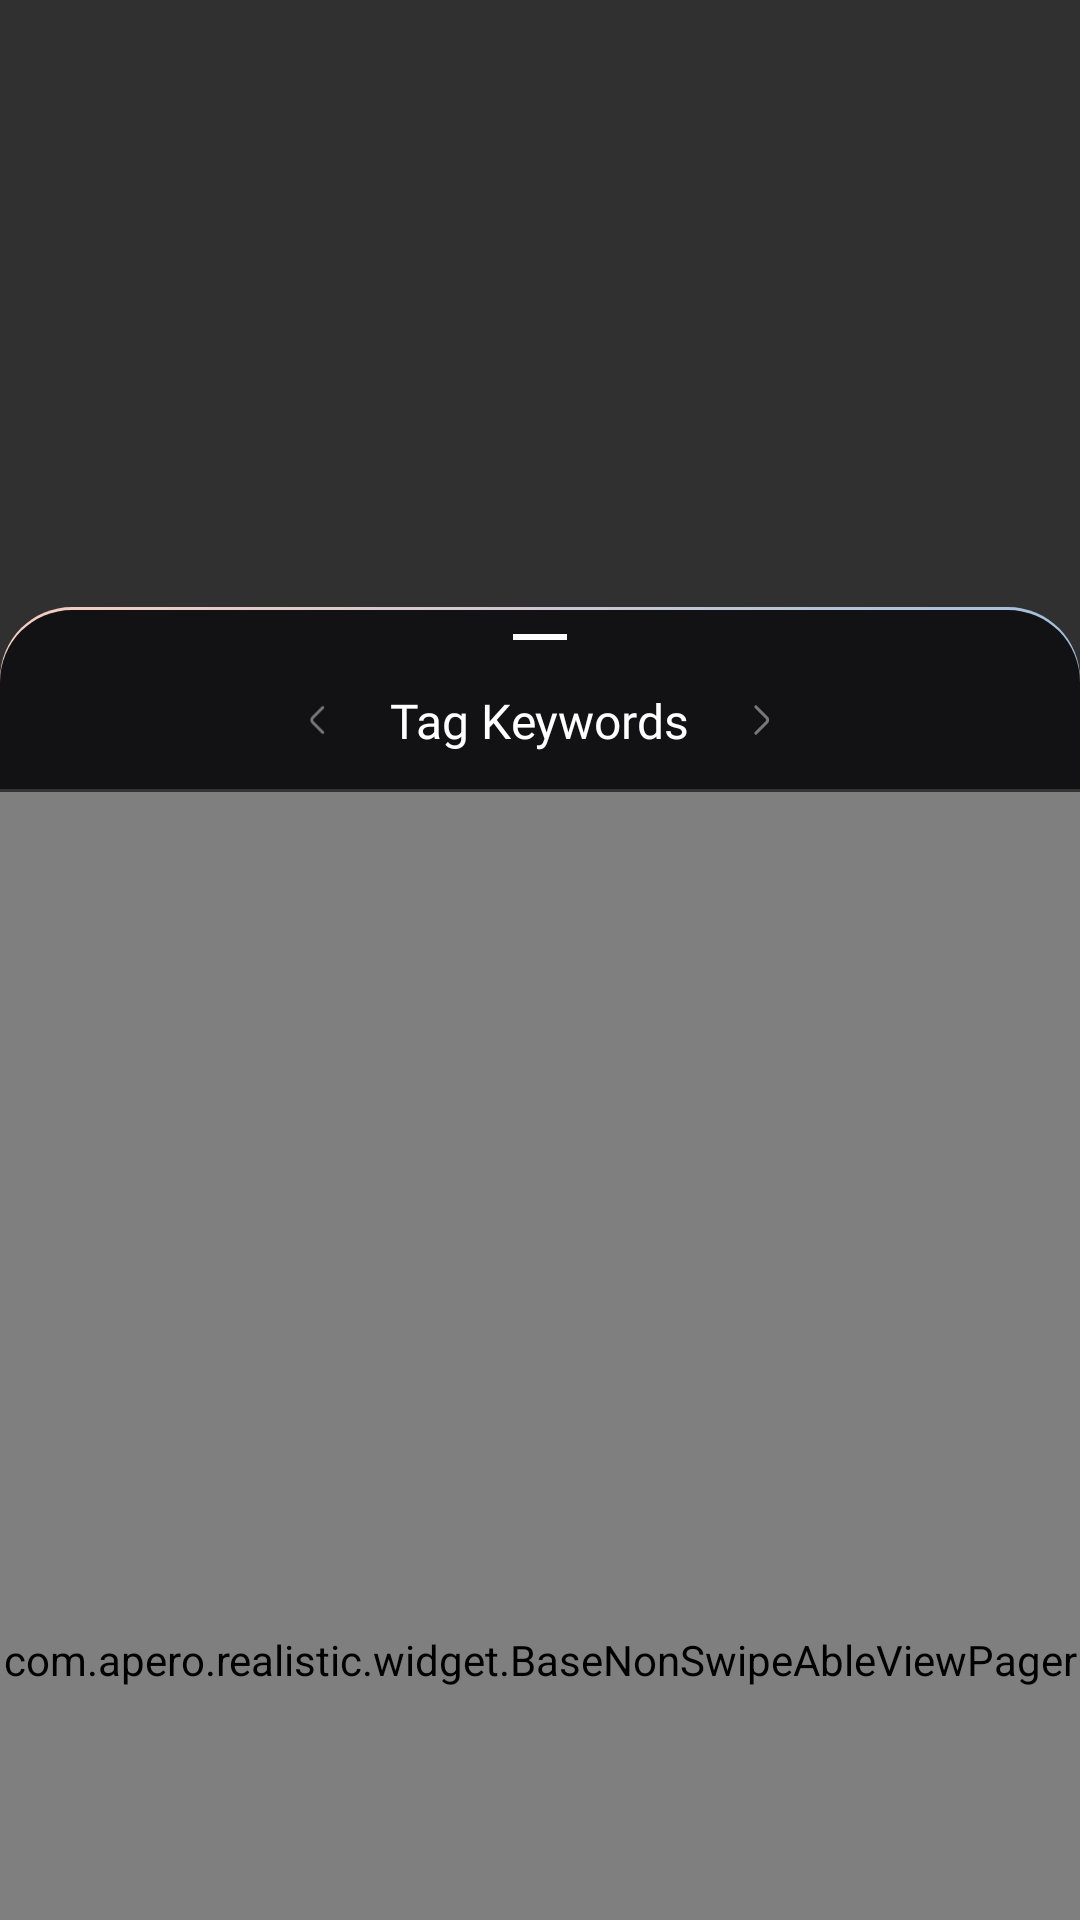

Where to tap for icons on this 1080px x 1920px app screen, as [x,y]:
back: [317,720]
next: [761,720]
